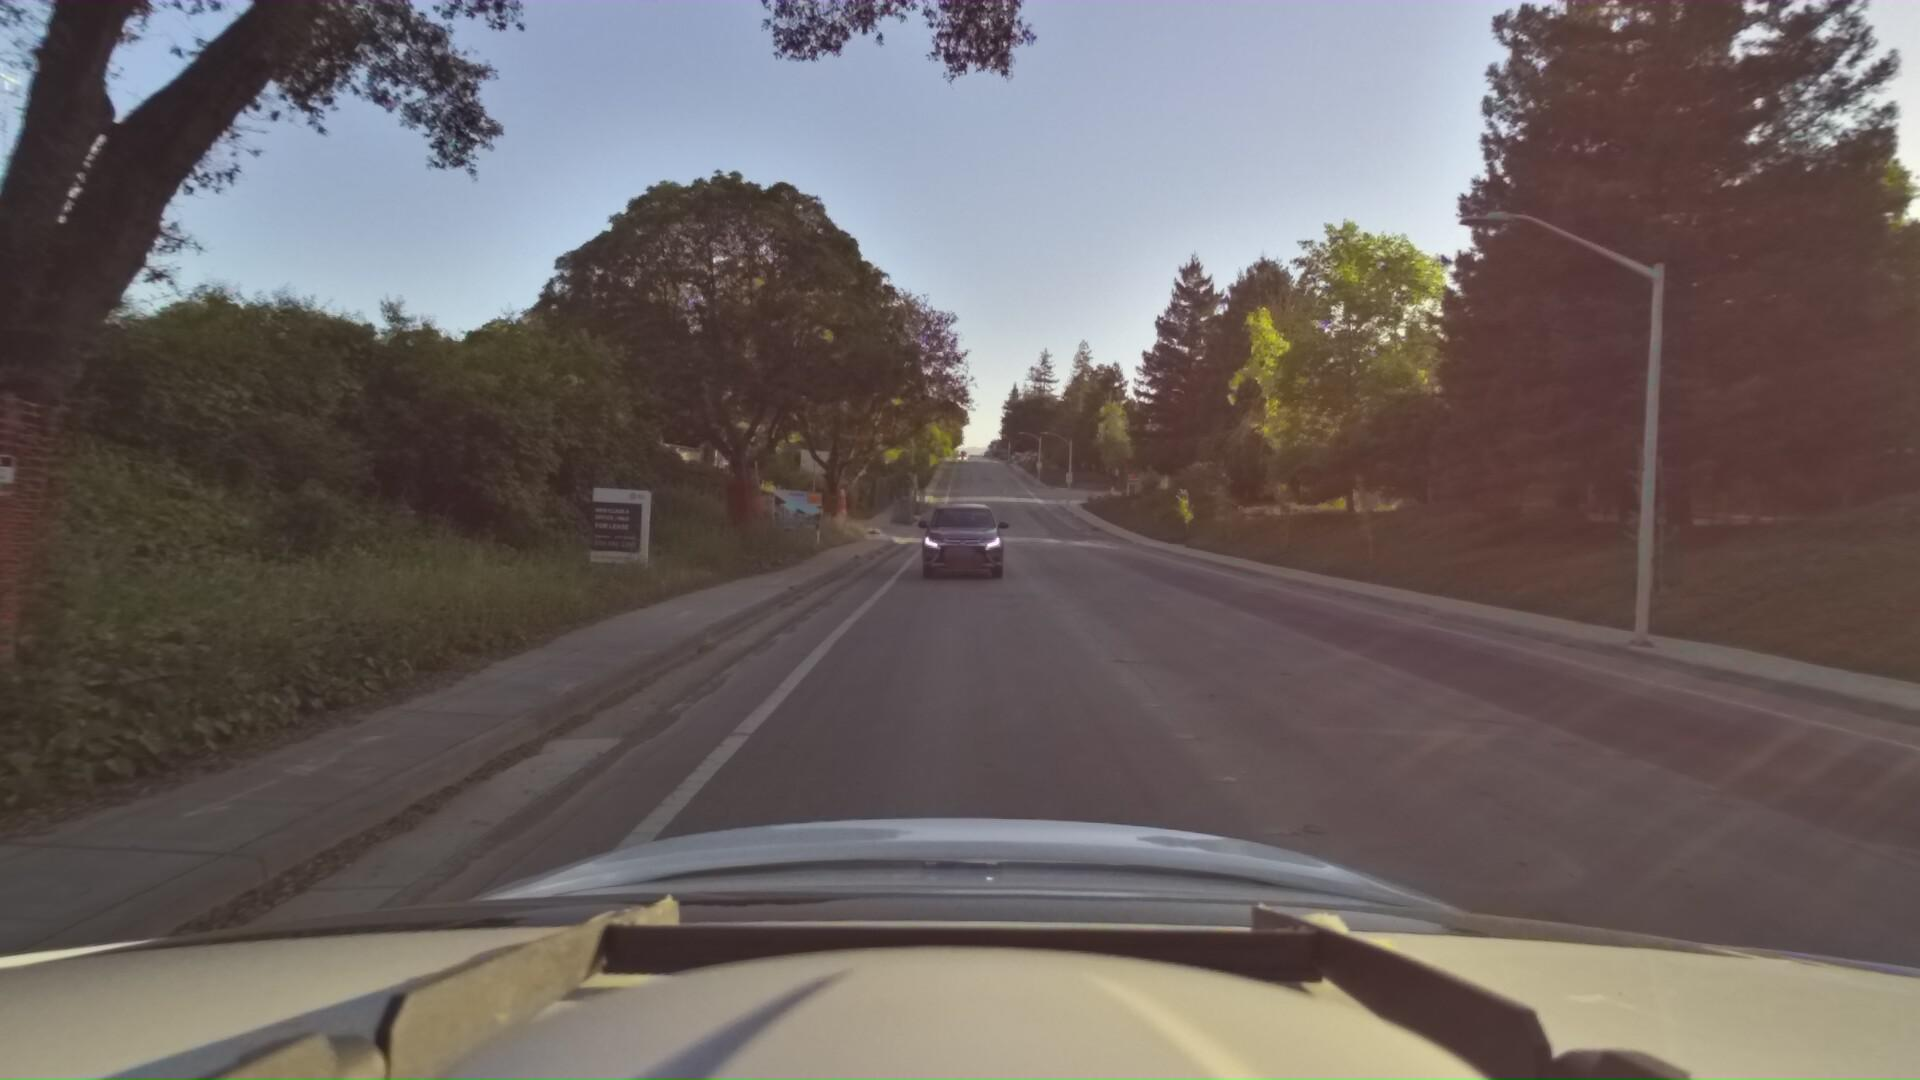car: (913, 488, 1011, 578), (948, 497, 1009, 551)
